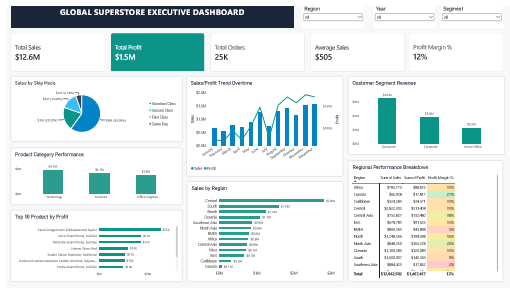

Layout of this report page (visuals, bound fields, positions):
{"tool":"powerbi","page":{"name":"Page 1","canvas":[1920,1080],"ordinal":0},"visuals":[{"type":"cardVisual","fields":{"Data":["Global_Superstore2.Total Sales"]},"box":[17.1,105,362,147.9],"z":0},{"type":"cardVisual","fields":{"Data":["Global_Superstore2.Total Profit"]},"box":[400.9,105,362,147.9],"z":1},{"type":"cardVisual","fields":{"Data":["Global_Superstore2.Total Orders"]},"box":[784.6,105,362,147.9],"z":2},{"type":"cardVisual","fields":{"Data":["Global_Superstore2.Average Sales"]},"box":[1170.5,105,362,147.9],"z":3},{"type":"cardVisual","fields":{"Data":["Global_Superstore2.Profit Margin %"]},"box":[1547.8,105,362.3,147],"z":4},{"type":"lineClusteredColumnComboChart","title":"Sales/Profit Trend Overtime","fields":{"Category":["Global_Superstore2.Order Date.Variation.Date Hierarchy.Month"],"Y":["Sum(Global_Superstore2.Sales)"],"Y2":["Sum(Global_Superstore2.Profit)"]},"box":[692.4,270.1,602.4,385.9],"z":5},{"type":"clusteredBarChart","title":"Sales by Region","fields":{"Category":["Global_Superstore2.Region"],"Y":["Sum(Global_Superstore2.Sales)"]},"box":[694.6,675.3,601.7,385],"z":6},{"type":"columnChart","title":"Product Category Performance","fields":{"Category":["Global_Superstore2.Category"],"Y":["Sum(Global_Superstore2.Sales)"]},"box":[17.1,544.5,660.3,220.8],"z":7},{"type":"columnChart","title":"Customer Segment Revenue","fields":{"Category":["Global_Superstore2.Segment"],"Y":["Sum(Global_Superstore2.Sales)"]},"box":[1314.1,270.1,602.4,302.3],"z":8},{"type":"clusteredBarChart","title":"Top 10 Product by Profit","fields":{"Category":["Global_Superstore2.Product Name"],"Y":["Sum(Global_Superstore2.Profit)"]},"box":[17.1,784.6,660.3,276.5],"z":9},{"type":"pieChart","title":"Sales by Ship Mode","fields":{"Category":["Global_Superstore2.Ship Mode"],"Y":["Sum(Global_Superstore2.Sales)"]},"box":[17.1,270.1,660.3,253],"z":11},{"type":"pivotTable","title":"Regional Performance Breakdown","fields":{"Rows":["Global_Superstore2.Region"],"Values":["Sum(Global_Superstore2.Sales)","Sum(Global_Superstore2.Profit)","Global_Superstore2.Profit Margin %"]},"box":[1314.1,593.8,602.4,467.3],"z":12},{"type":"textbox","box":[17.1,0,876.8,83.6],"z":13},{"type":"textbox","box":[17.1,0,1089,83.6],"z":14},{"type":"slicer","fields":{"Values":["Global_Superstore2.Order Date.Variation.Date Hierarchy.Year"]},"box":[1412.7,0,237,85],"z":15},{"type":"slicer","fields":{"Values":["Global_Superstore2.Region"]},"box":[1138.3,0,238,85],"z":16},{"type":"slicer","fields":{"Values":["Global_Superstore2.Segment"]},"box":[1672.1,0,237,85],"z":17}]}

Visuals, with their boxes in screenshot pixels (x1, y1, x2, y2), scaled from the page's 1920x1080 canvas onto the 510x288 screenshot:
cardVisual - Global_Superstore2.Total Sales: BBox(5, 28, 101, 67)
cardVisual - Global_Superstore2.Total Profit: BBox(106, 28, 203, 67)
cardVisual - Global_Superstore2.Total Orders: BBox(208, 28, 305, 67)
cardVisual - Global_Superstore2.Average Sales: BBox(311, 28, 407, 67)
cardVisual - Global_Superstore2.Profit Margin %: BBox(411, 28, 507, 67)
"Sales/Profit Trend Overtime" lineClusteredColumnComboChart: BBox(184, 72, 344, 175)
"Sales by Region" clusteredBarChart: BBox(185, 180, 344, 283)
"Product Category Performance" columnChart: BBox(5, 145, 180, 204)
"Customer Segment Revenue" columnChart: BBox(349, 72, 509, 153)
"Top 10 Product by Profit" clusteredBarChart: BBox(5, 209, 180, 283)
"Sales by Ship Mode" pieChart: BBox(5, 72, 180, 139)
"Regional Performance Breakdown" pivotTable: BBox(349, 158, 509, 283)
textbox: BBox(5, 0, 237, 22)
textbox: BBox(5, 0, 294, 22)
slicer - Global_Superstore2.Order Date.Variation.Date Hierarchy.Year: BBox(375, 0, 438, 23)
slicer - Global_Superstore2.Region: BBox(302, 0, 366, 23)
slicer - Global_Superstore2.Segment: BBox(444, 0, 507, 23)
